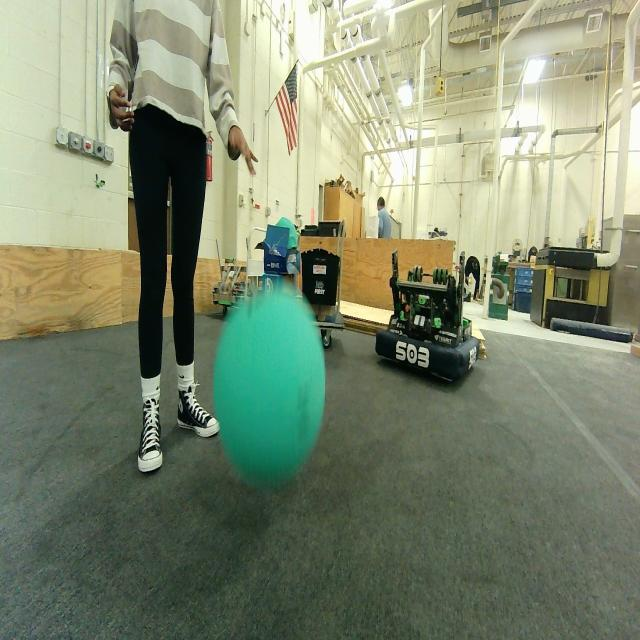algae: (215, 280, 325, 484)
